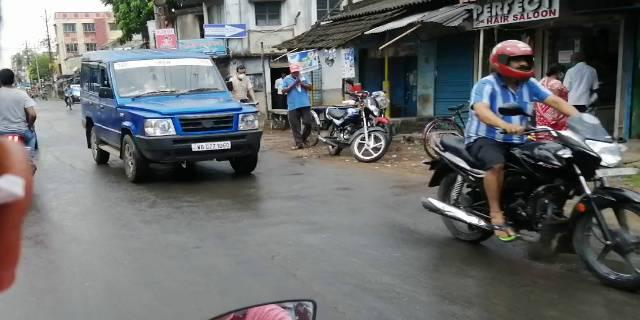Car: (76, 44, 271, 181)
Motorbike: (420, 50, 636, 284), (321, 90, 392, 165)
